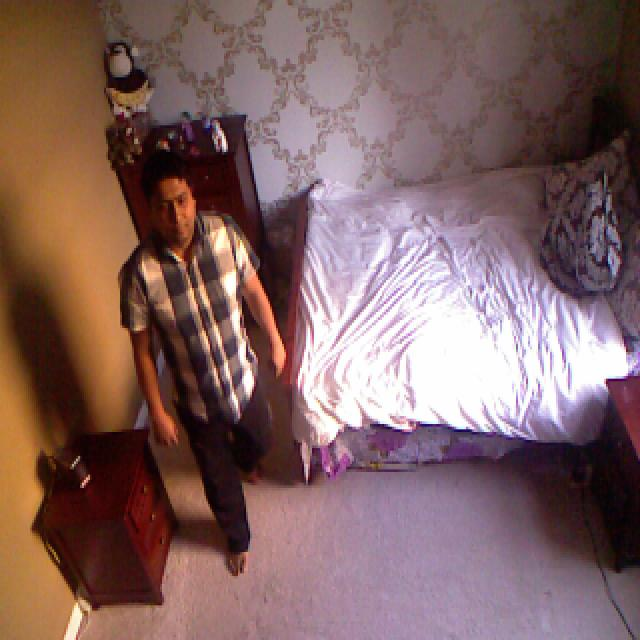standing: (111, 154, 285, 576)
